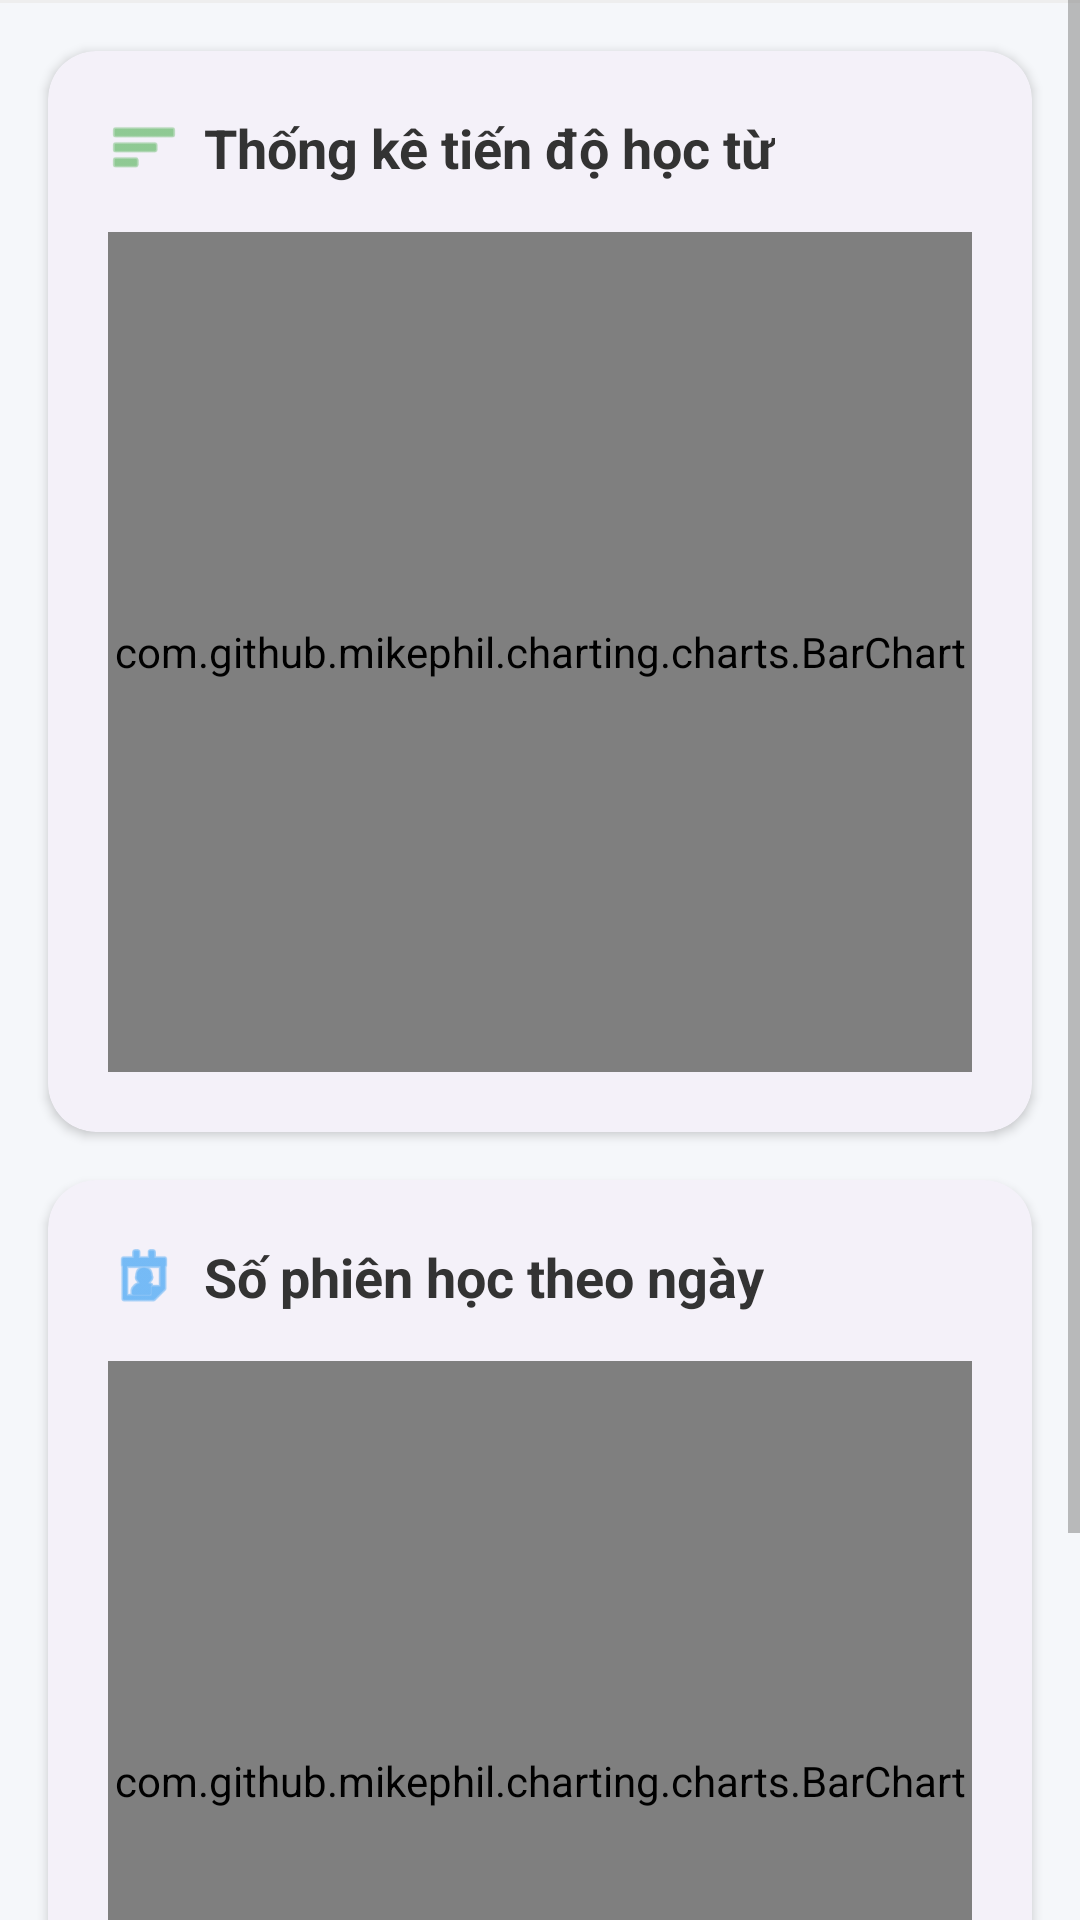

Screen size 1080x1920. Icon name, then its box in pixels as (x1, y1, x2, y2):
calendar: (121, 1249, 167, 1302)
sort by size: (113, 127, 175, 168)
